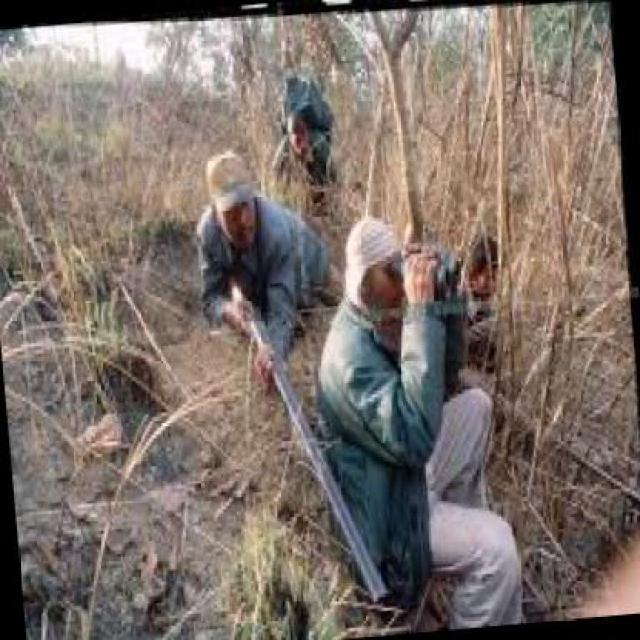poacher: (292, 198, 548, 534), (182, 153, 302, 344), (263, 80, 349, 192)
weapon: (236, 312, 386, 597)
